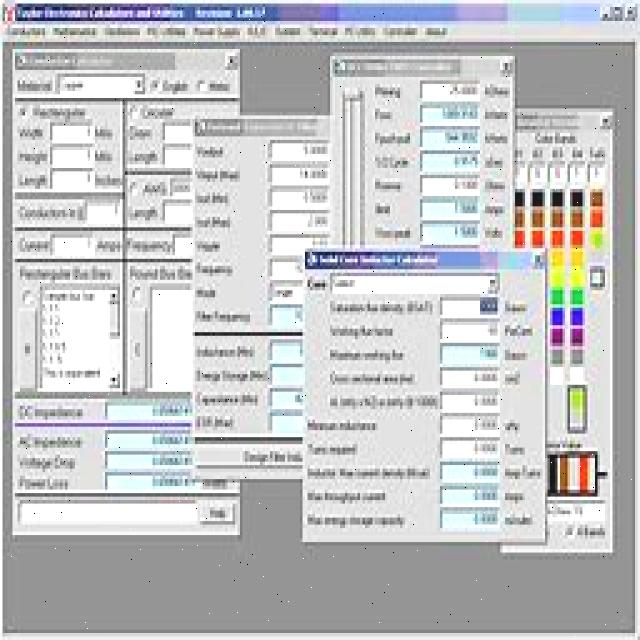button: (16, 304, 38, 390), (128, 304, 147, 392), (199, 501, 236, 523), (222, 50, 242, 72), (513, 144, 533, 162), (554, 144, 574, 162), (572, 142, 590, 162), (532, 146, 553, 162), (588, 144, 606, 162), (498, 56, 514, 75), (599, 111, 614, 130), (531, 252, 546, 270), (623, 2, 638, 20), (610, 4, 622, 22), (600, 4, 609, 24)
dropdownMenu: (330, 270, 500, 294), (56, 72, 146, 95)
icon: (589, 264, 607, 290), (0, 0, 15, 24), (330, 58, 348, 78), (13, 51, 29, 72), (192, 118, 207, 136), (306, 248, 318, 266)
input: (151, 281, 193, 394), (18, 500, 198, 526), (105, 449, 191, 470), (104, 428, 192, 448), (104, 472, 192, 491), (103, 402, 193, 420), (545, 498, 608, 522), (420, 220, 480, 245), (440, 508, 500, 532), (440, 391, 502, 414), (267, 164, 330, 186), (440, 296, 500, 319), (420, 175, 480, 198), (439, 343, 501, 365), (439, 414, 501, 436), (268, 189, 330, 211), (439, 437, 500, 459), (268, 139, 329, 161), (440, 368, 500, 390), (440, 460, 500, 482), (420, 80, 480, 102), (420, 150, 480, 172), (420, 199, 480, 221), (419, 105, 481, 126), (419, 127, 481, 148), (440, 321, 500, 342), (268, 212, 329, 232), (440, 486, 500, 506), (51, 232, 93, 258), (49, 167, 94, 190), (50, 122, 94, 142), (268, 234, 304, 257), (267, 304, 303, 326), (49, 146, 93, 164), (271, 412, 302, 437), (268, 258, 302, 280), (268, 281, 301, 303), (269, 340, 302, 362), (86, 202, 119, 224), (271, 365, 303, 387), (162, 121, 192, 144), (269, 390, 303, 410), (162, 147, 192, 168), (164, 202, 191, 224), (169, 176, 190, 198), (567, 162, 587, 185), (530, 163, 549, 185), (588, 164, 608, 184), (549, 163, 567, 185), (176, 237, 192, 256), (515, 163, 530, 183)
label: (15, 0, 268, 19), (330, 295, 434, 315), (328, 392, 437, 411), (320, 253, 458, 268), (306, 465, 434, 481), (208, 118, 324, 135), (306, 512, 408, 531), (351, 62, 463, 78), (305, 487, 390, 506), (328, 319, 397, 342), (329, 369, 415, 386), (196, 363, 268, 383), (32, 51, 120, 67), (18, 400, 86, 420), (197, 388, 260, 409), (18, 268, 112, 282), (328, 346, 408, 362), (196, 341, 257, 361), (194, 306, 252, 327), (240, 445, 302, 464), (16, 453, 78, 472), (14, 433, 86, 449), (305, 418, 381, 433), (15, 202, 82, 219), (195, 164, 243, 186), (307, 441, 365, 458), (196, 411, 238, 431), (504, 462, 542, 482), (16, 477, 74, 490), (128, 266, 190, 278), (32, 103, 85, 117), (196, 212, 232, 232), (196, 260, 236, 278), (373, 222, 411, 240), (195, 190, 232, 208), (131, 237, 170, 254), (372, 153, 411, 170), (373, 129, 414, 144), (15, 78, 53, 94), (16, 171, 46, 191), (371, 176, 404, 194), (196, 142, 228, 160), (133, 203, 160, 224), (18, 235, 48, 253), (196, 237, 224, 256), (373, 82, 402, 100), (504, 510, 534, 527), (504, 298, 532, 316), (17, 148, 48, 164), (504, 322, 535, 338), (95, 169, 122, 187), (163, 78, 191, 95), (503, 346, 529, 364), (483, 82, 512, 98), (17, 126, 49, 140), (128, 126, 156, 142), (129, 150, 161, 164), (504, 440, 526, 460), (96, 237, 120, 255), (483, 130, 510, 146), (141, 181, 166, 197), (306, 273, 326, 293), (143, 106, 173, 119), (194, 284, 218, 300), (484, 107, 508, 122), (504, 369, 522, 389), (484, 176, 506, 192), (484, 202, 506, 218), (503, 418, 522, 435), (374, 107, 394, 123), (210, 78, 232, 92), (374, 201, 392, 218), (95, 148, 114, 164), (96, 125, 116, 140), (484, 225, 504, 240), (504, 491, 529, 503), (486, 153, 505, 168)
menu: (0, 22, 640, 43)
menuItem: (43, 366, 101, 381), (42, 292, 98, 304), (42, 341, 66, 353), (41, 313, 64, 325), (42, 354, 63, 367), (42, 326, 66, 337), (40, 303, 62, 313)
radio: (130, 282, 144, 302), (565, 524, 576, 544), (16, 104, 29, 119), (23, 288, 33, 307), (150, 77, 160, 93), (130, 180, 138, 198), (196, 80, 207, 92), (130, 104, 138, 120)
slider: (343, 85, 367, 247), (108, 283, 123, 392)
